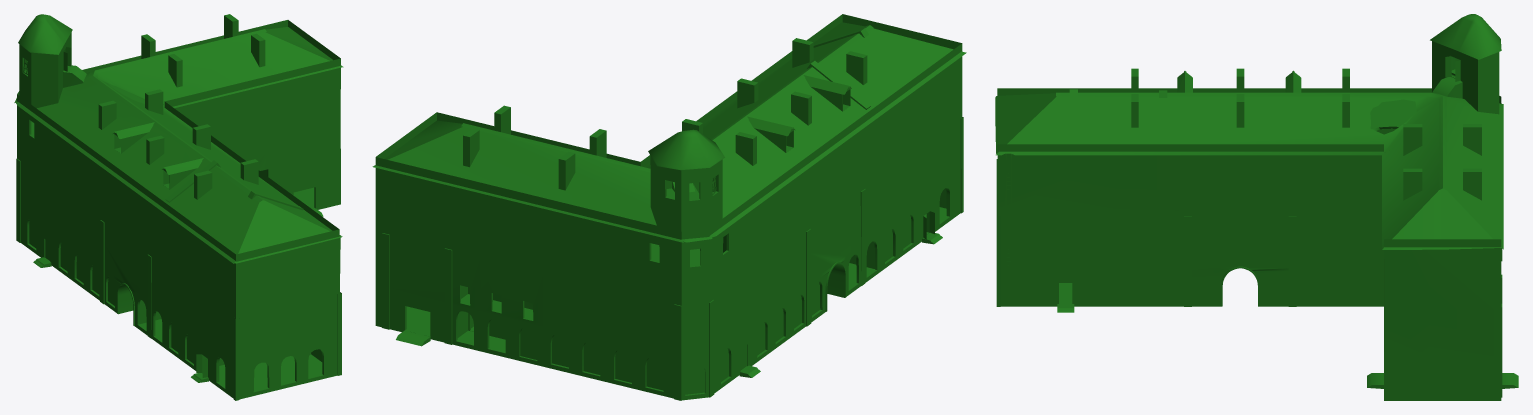
Rendered from Building_City_03_4Collision.FBX.
3 renders of one model, left to right at view 1: azimuth 30°, elevation 25°; view 2: azimuth 150°, elevation 25°; view 3: azimuth 270°, elevation 25°, orthographic. The views are drawn at different scales.
Visible parts, largest first — view 1: Building_City_03_4Collision, Building_City_03_4Roof_Collision, Building_City_03_4Tube_Collision; view 2: Building_City_03_4Collision, Building_City_03_4Roof_Collision, Building_City_03_4Tube_Collision; view 3: Building_City_03_4Collision, Building_City_03_4Roof_Collision, Building_City_03_4Tube_Collision.
Boxes of the visible parts, left/top/right/bottom form: Building_City_03_4Collision: left=16, top=14, right=341, bottom=400; Building_City_03_4Roof_Collision: left=14, top=20, right=343, bottom=263; Building_City_03_4Tube_Collision: left=98, top=14, right=265, bottom=199; Building_City_03_4Collision: left=375, top=56, right=963, bottom=400; Building_City_03_4Roof_Collision: left=372, top=14, right=966, bottom=242; Building_City_03_4Tube_Collision: left=463, top=38, right=867, bottom=190; Building_City_03_4Collision: left=996, top=14, right=1518, bottom=400; Building_City_03_4Roof_Collision: left=995, top=70, right=1503, bottom=249; Building_City_03_4Tube_Collision: left=1131, top=68, right=1481, bottom=200.
Size of the model in its own units: 3722 by 5215 by 2719.
